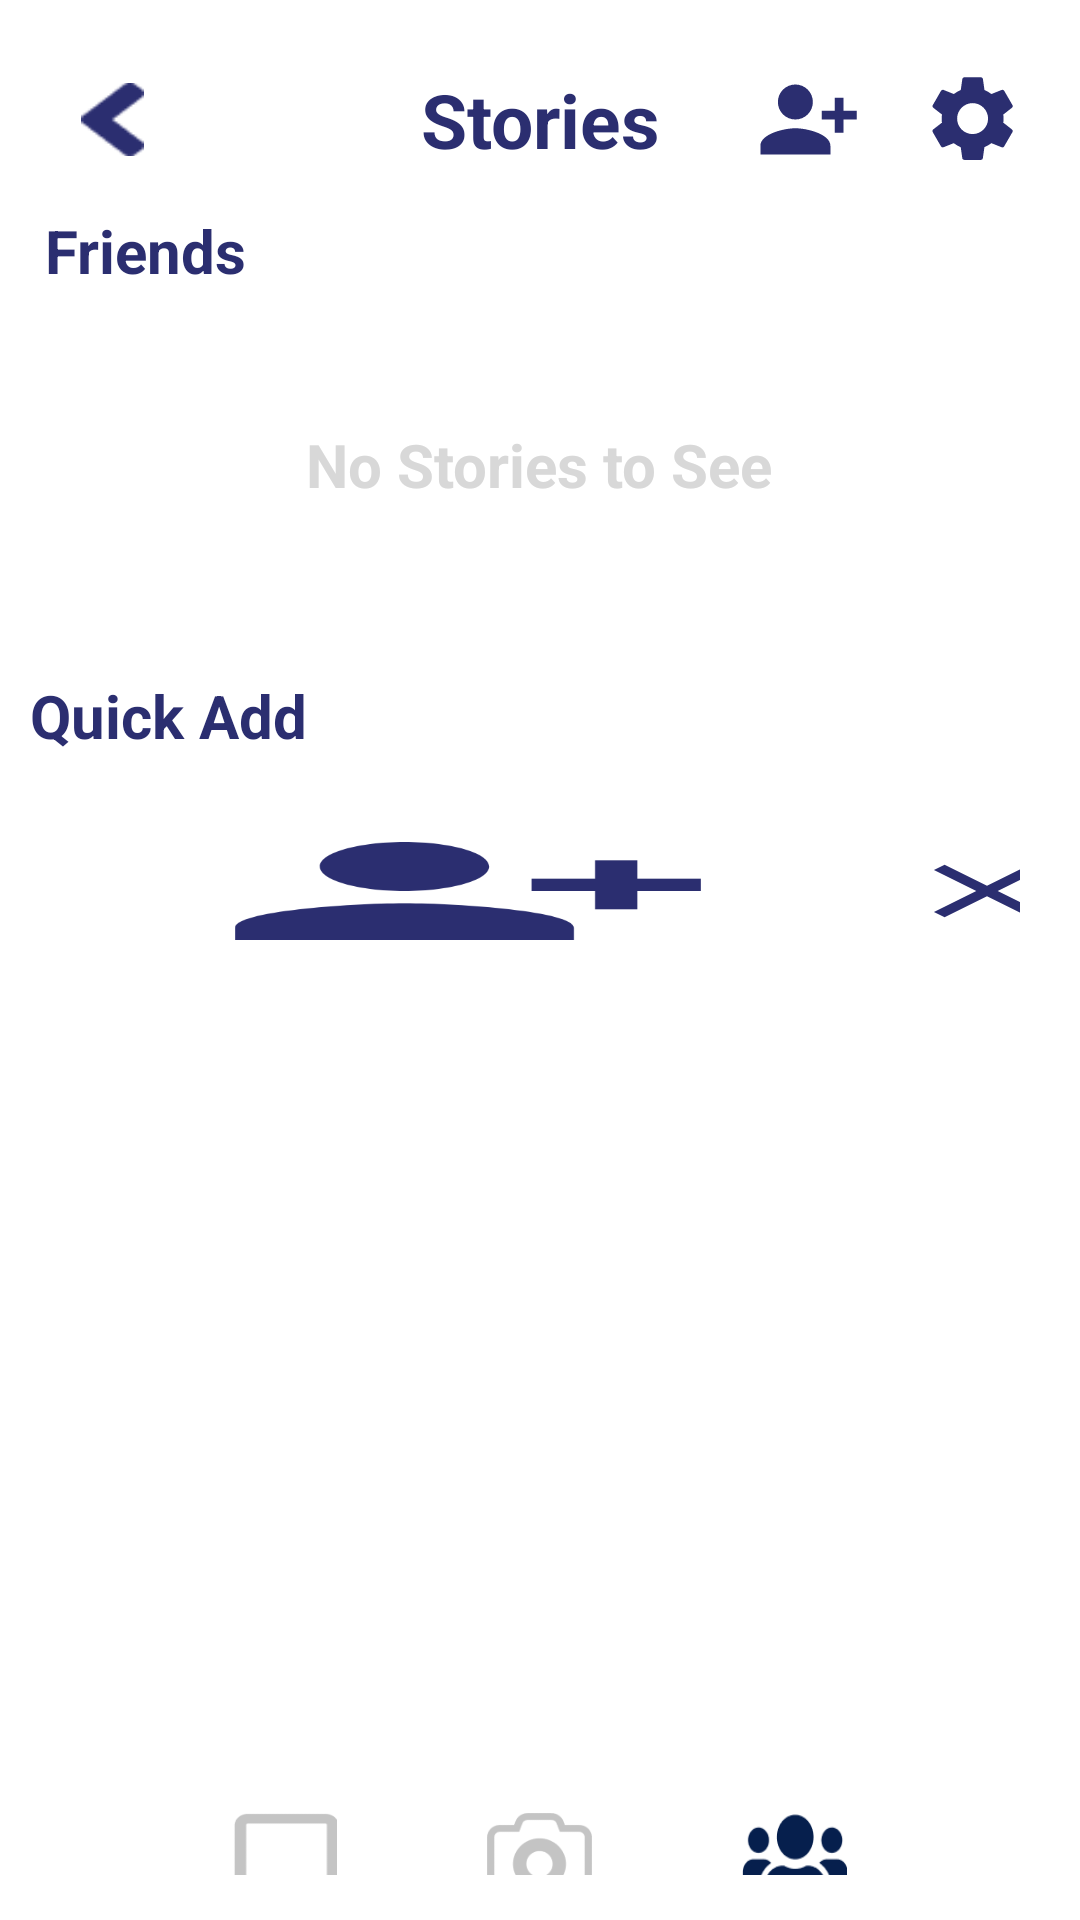

Icon click points for this 1080*1920 phone screenshot, format (x,y):
settings: (972,118)
